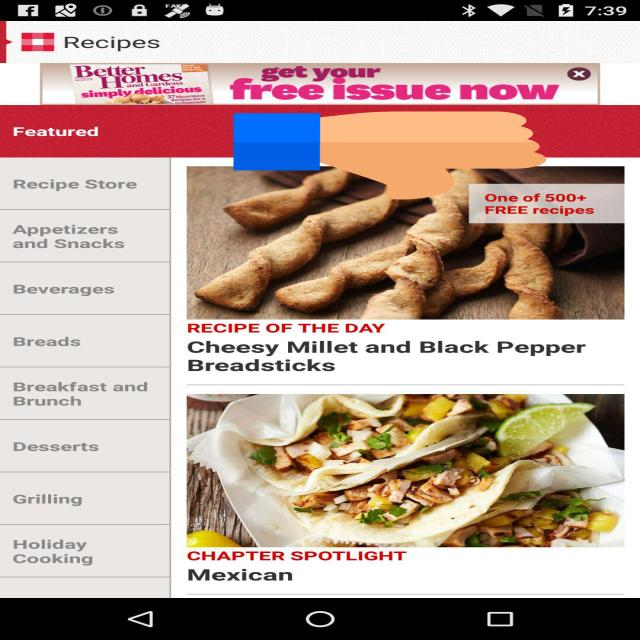obstruction: (234, 109, 546, 202)
